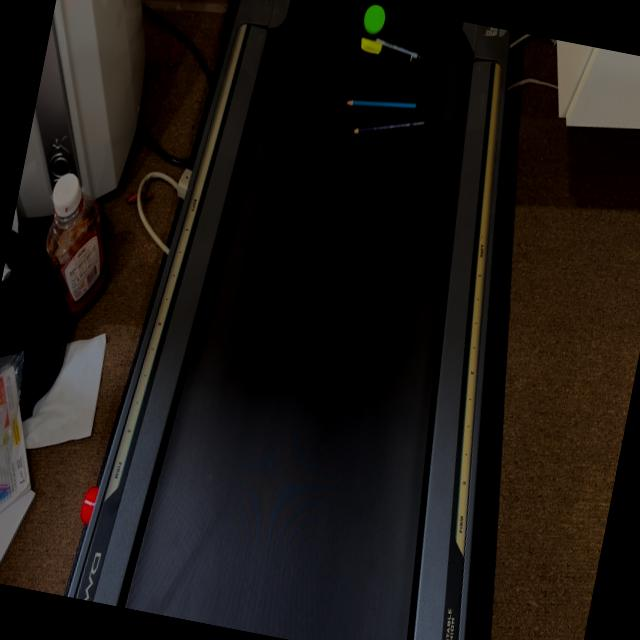Recycle: (358, 2, 386, 38)
Trash: (353, 104, 427, 148), (344, 90, 418, 120), (358, 36, 416, 62), (374, 36, 425, 62)
